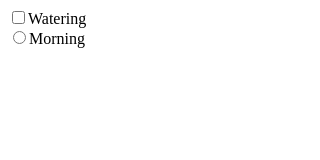
Scenario: Field kit › checkboxes and radios check natively with leaf accent styling hooks
The width and height of the screenshot is (320, 160).
Click the checkbox labelled "Watering": [18, 18] box [12, 11, 25, 24]
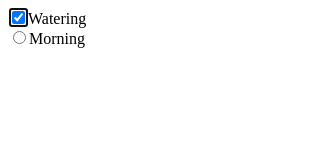
Check: the checkbox labelled "Watering" is checked, box [12, 11, 25, 24]
Click the radio button labelled "Morning": [20, 38] box [13, 31, 26, 44]
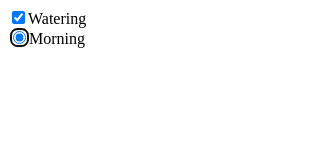
Check: the radio button labelled "Morning" is checked, box [13, 31, 26, 44]
